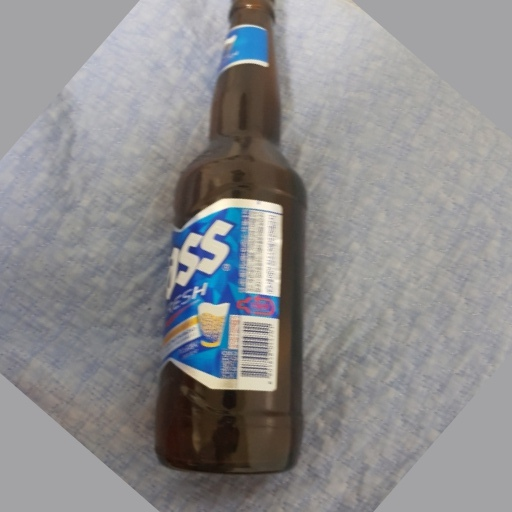Glass_1: (161, 1, 312, 479)
